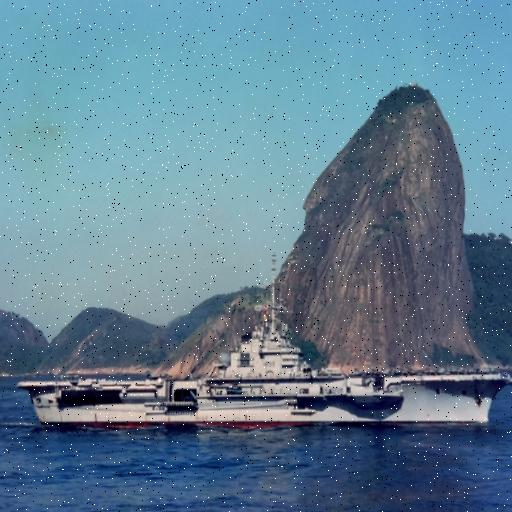Portanaves: (17, 250, 512, 436)
